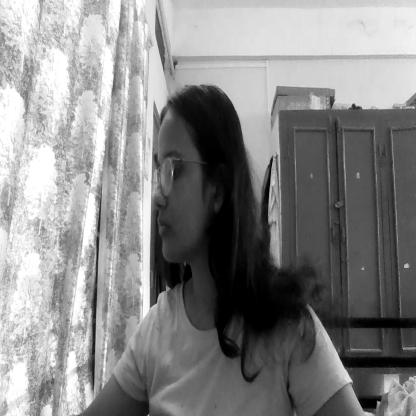Distracted: (155, 80, 234, 282)
